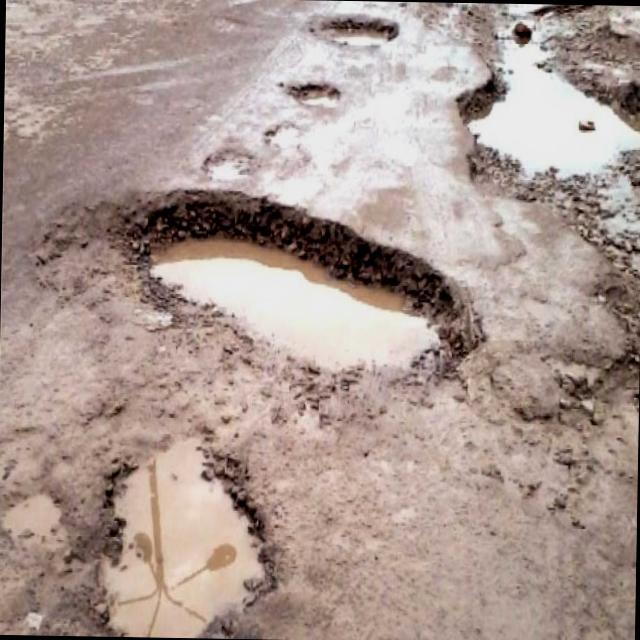bad-road: (116, 184, 492, 394), (95, 418, 282, 639), (453, 5, 640, 203), (551, 204, 640, 426), (0, 485, 70, 553), (311, 10, 398, 45), (279, 78, 340, 110), (200, 148, 246, 185), (264, 122, 304, 155)
